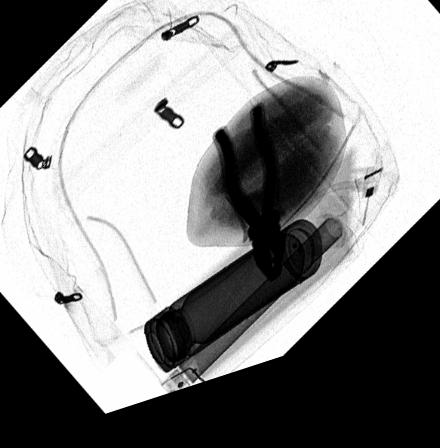Pliers: (212, 117, 286, 301)
